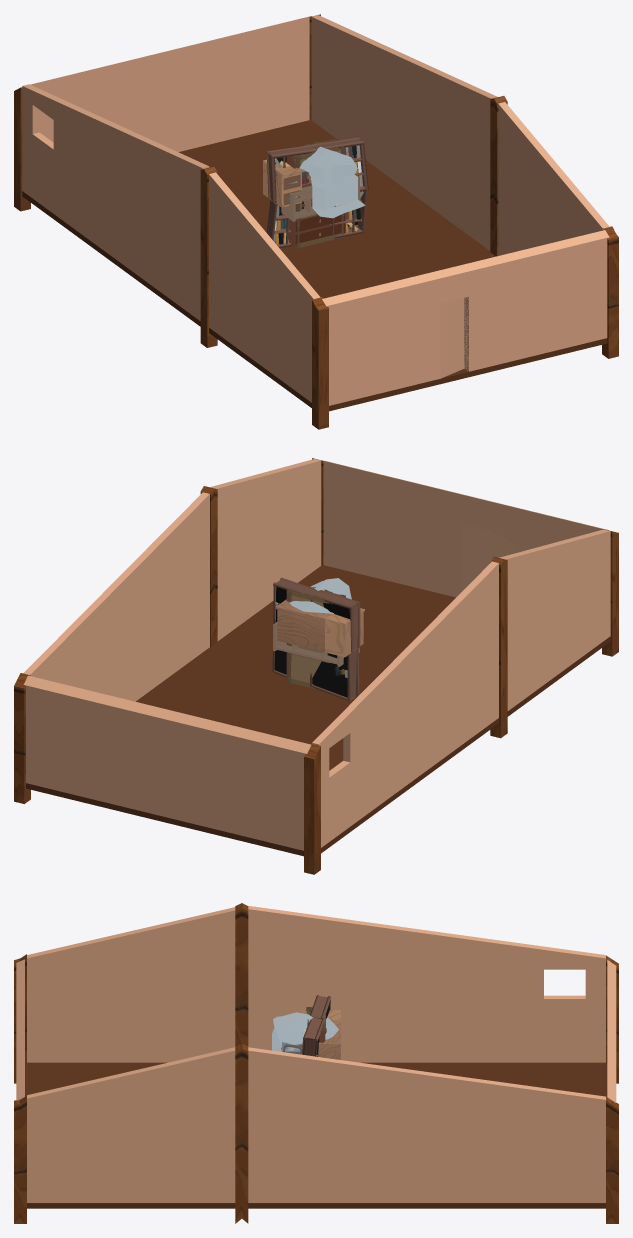
The model's file is cabin-assets.glb.
3 views of the same model, one above another, from view 1: azimuth 30°, elevation 25°; view 2: azimuth 150°, elevation 25°; view 3: azimuth 270°, elevation 25° (orthographic).
Parts seen in each view (by area): view 1: beam, scientist, group2040108076, Drawer1_SmallBookShelf1, BookCase_LeftDoor, Shelf_Small2; view 2: beam, group2040108076, scientist, BookCase_LeftDoor, Shelf_Small2; view 3: beam, scientist, group2040108076.
Part boxes in pixels (x1,y1,x2,y2): beam: (14,14,618,429); scientist: (263,146,365,218); group2040108076: (266,137,368,248); Drawer1_SmallBookShelf1: (286,139,346,247); BookCase_LeftDoor: (294,138,345,248); Shelf_Small2: (281,178,359,221); beam: (14,458,618,874); group2040108076: (272,577,360,701); scientist: (276,578,364,657); BookCase_LeftDoor: (287,586,345,689); Shelf_Small2: (273,622,359,666); beam: (14,903,618,1223); scientist: (272,1010,340,1059); group2040108076: (301,995,331,1056).
Bounding box in the file's own units: 66.5 × 37.38 × 117.
54 materials, 8 textured.
